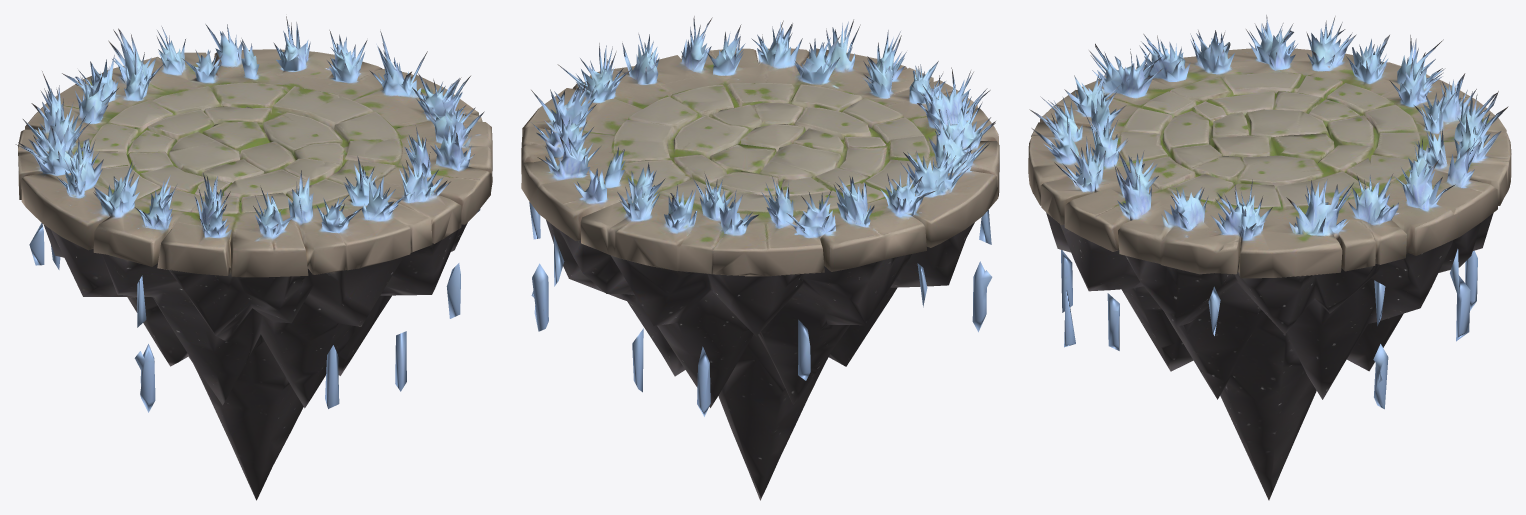
File: floating-sanctuary-island.glb
3 views of the same model, side by side, from view 1: azimuth 30°, elevation 25°; view 2: azimuth 150°, elevation 25°; view 3: azimuth 270°, elevation 25° (orthographic).
Parts seen in each view (by area): view 1: Mesh::generatedModels/AgDrM0mbeO3gYlXiTYMk.gltf; view 2: Mesh::generatedModels/AgDrM0mbeO3gYlXiTYMk.gltf; view 3: Mesh::generatedModels/AgDrM0mbeO3gYlXiTYMk.gltf.
Boxes of the visible parts, box(x1,y1,x2,y2) form: Mesh::generatedModels/AgDrM0mbeO3gYlXiTYMk.gltf: box(15, 16, 492, 500); Mesh::generatedModels/AgDrM0mbeO3gYlXiTYMk.gltf: box(521, 16, 999, 500); Mesh::generatedModels/AgDrM0mbeO3gYlXiTYMk.gltf: box(1028, 15, 1511, 500).
Bounding box in the file's own units: 1 × 0.915 × 0.9986.
1 material, 1 textured.
